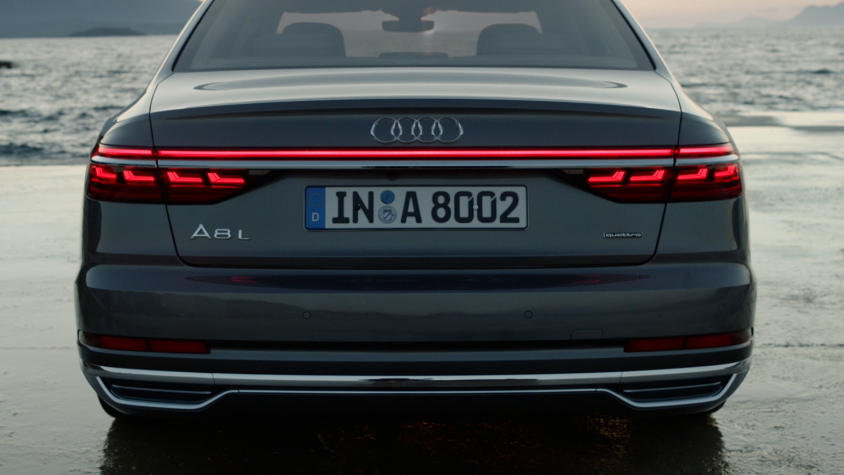audi: (362, 108, 468, 151)
